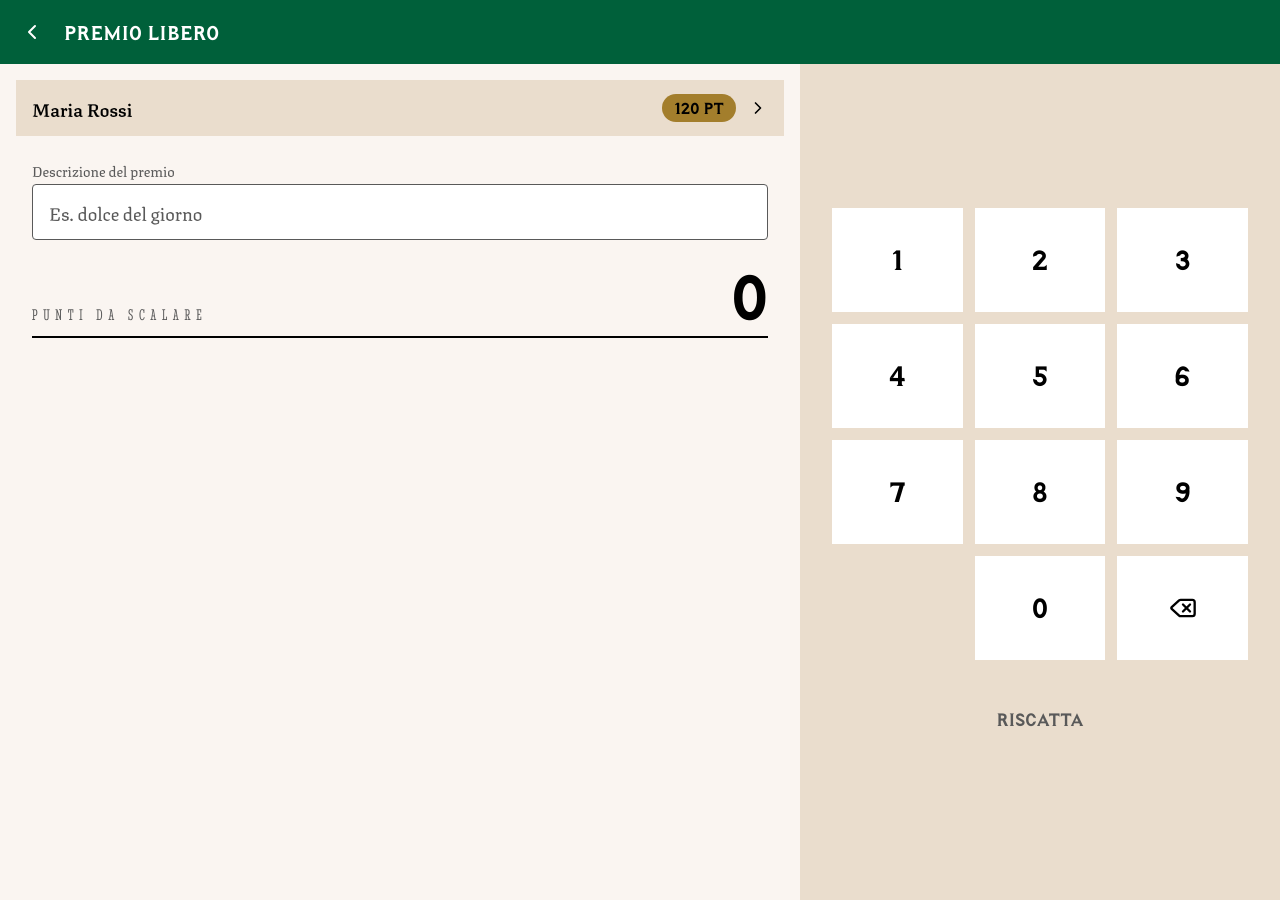
FreeRewardForm: Premio libero › "Indietro" goes back to the catalog (opened directly)
Click the link named "Indietro" at (32, 32), box [20,20,44,44]
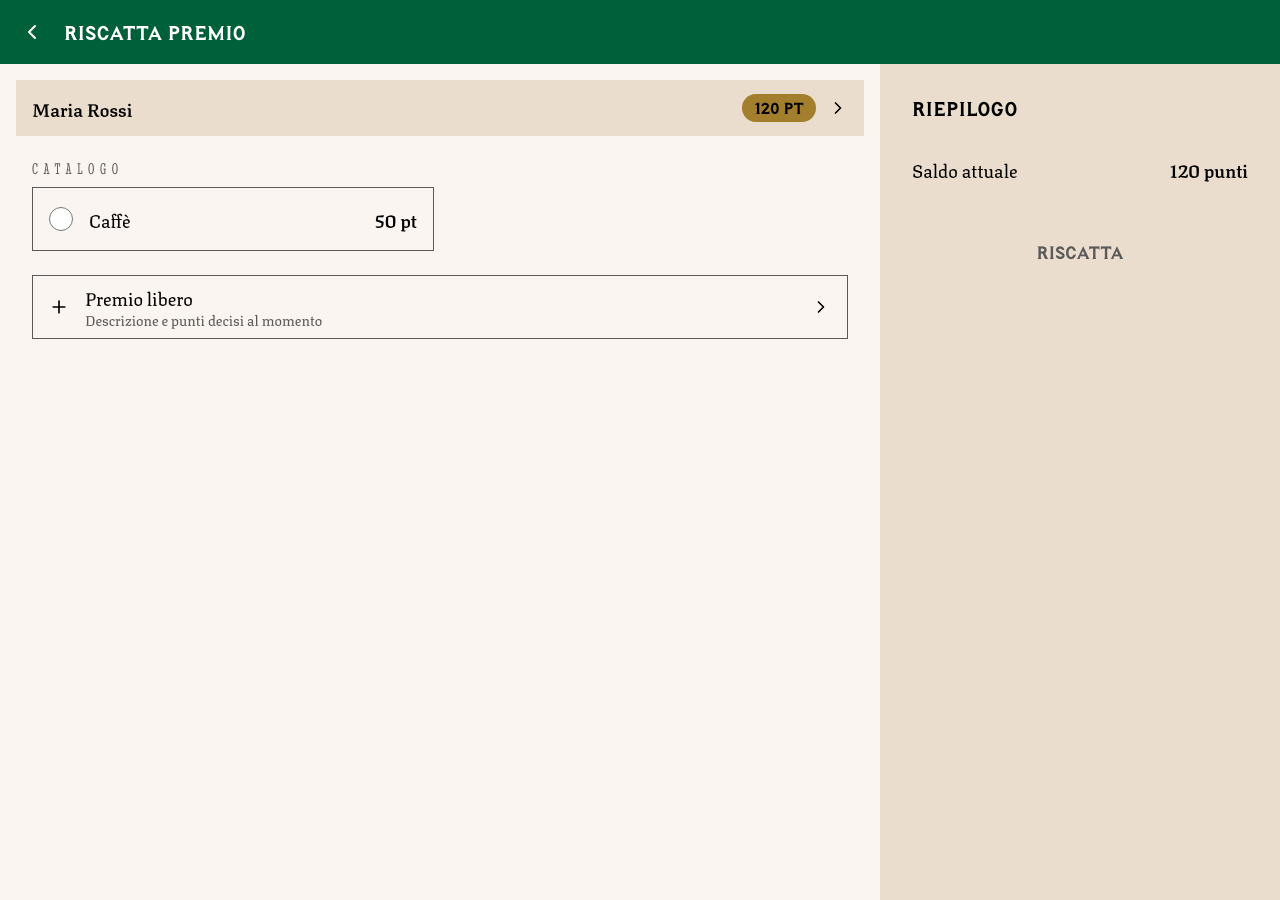
Now the heading "Riscatta premio" is shown, box [64,20,246,44]
Now the element "CATALOGO" is shown, box [32,160,434,251]
